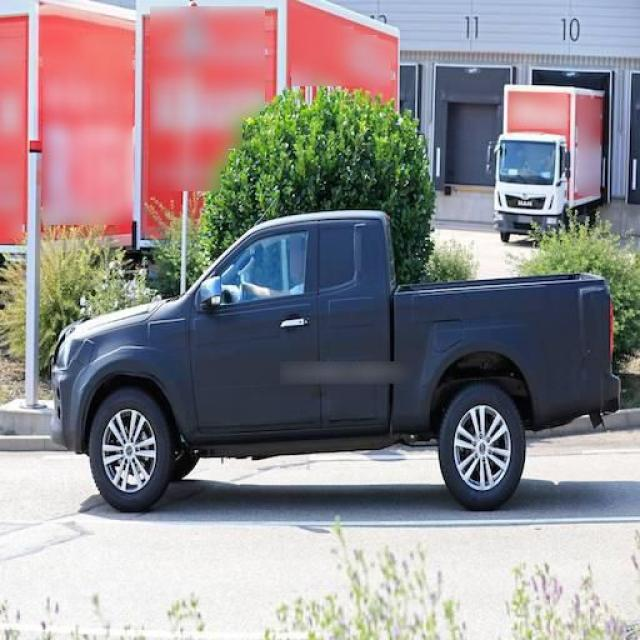front_left_door: (189, 221, 323, 435)
left_mirror: (196, 273, 224, 318)
trunk: (391, 279, 621, 434)
wheel: (89, 385, 527, 512)
